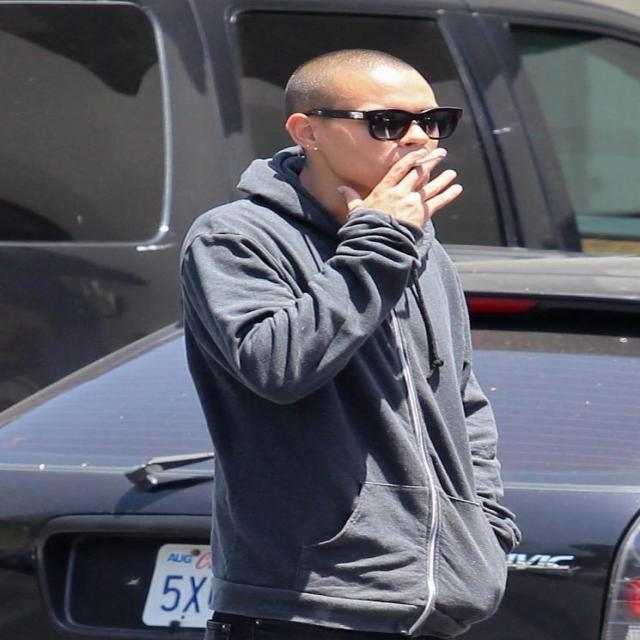Сигарета: (414, 152, 446, 170)
Тело: (191, 50, 515, 638)
